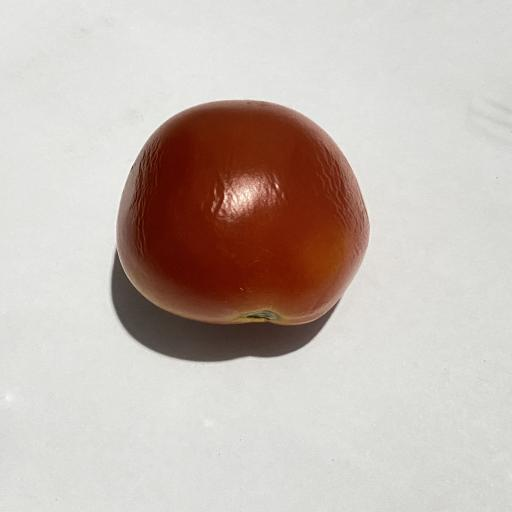spoiled: (117, 100, 369, 325)
